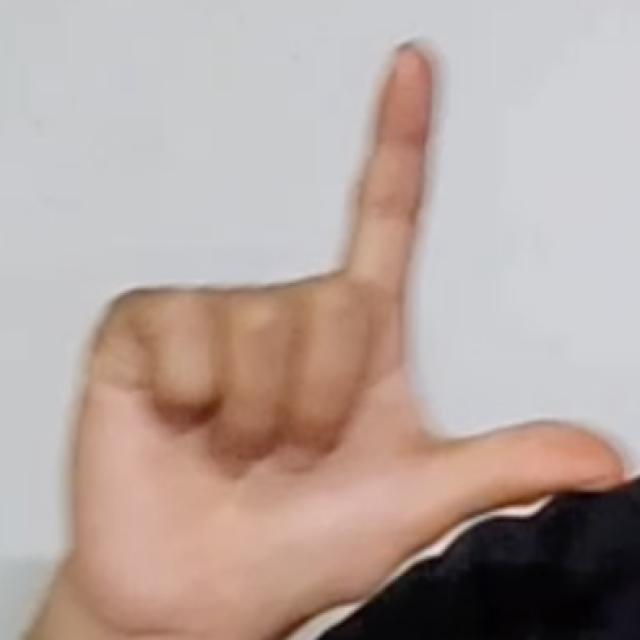LL: (60, 32, 626, 614)
